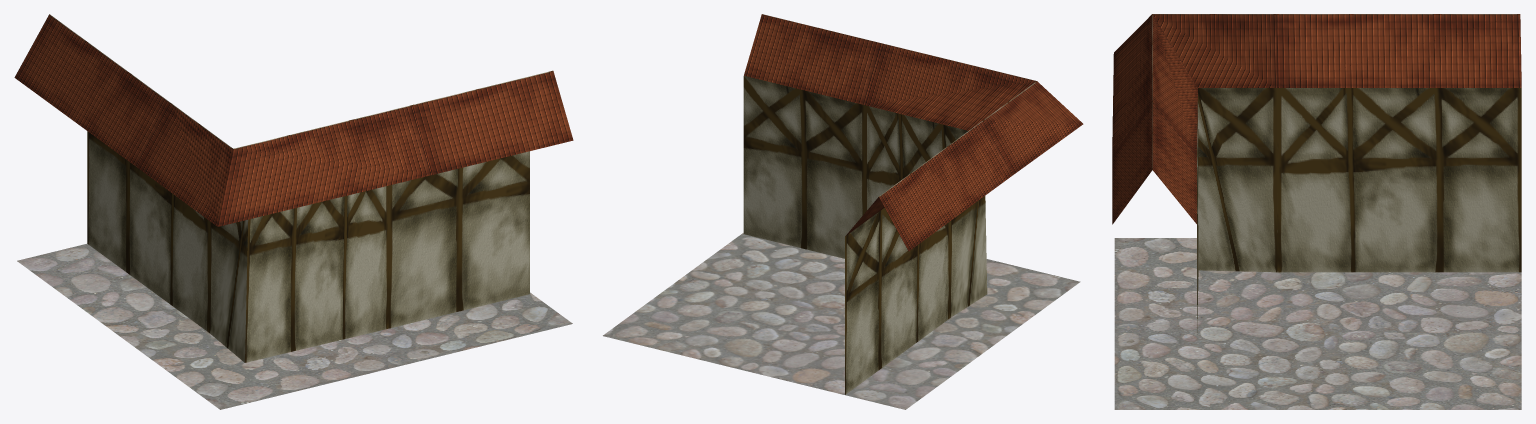
File: 3-5_Wall_Turn(No_Edge)_v1.fbx
3 views of the same model, side by side, from view 1: azimuth 30°, elevation 25°; view 2: azimuth 150°, elevation 25°; view 3: azimuth 270°, elevation 25° (orthographic). The views are drawn at different scales.
Parts seen in each view (by area): view 1: Wall_turn_NoEdge_v1; view 2: Wall_turn_NoEdge_v1; view 3: Wall_turn_NoEdge_v1.
Boxes of the visible parts, box(x1,y1,x2,y2) form: Wall_turn_NoEdge_v1: box(14, 14, 573, 409); Wall_turn_NoEdge_v1: box(603, 14, 1083, 409); Wall_turn_NoEdge_v1: box(1112, 14, 1521, 409).
Size of the model in its own units: 101 by 64.88 by 101.
Materials: 2 (2 with a texture image).
